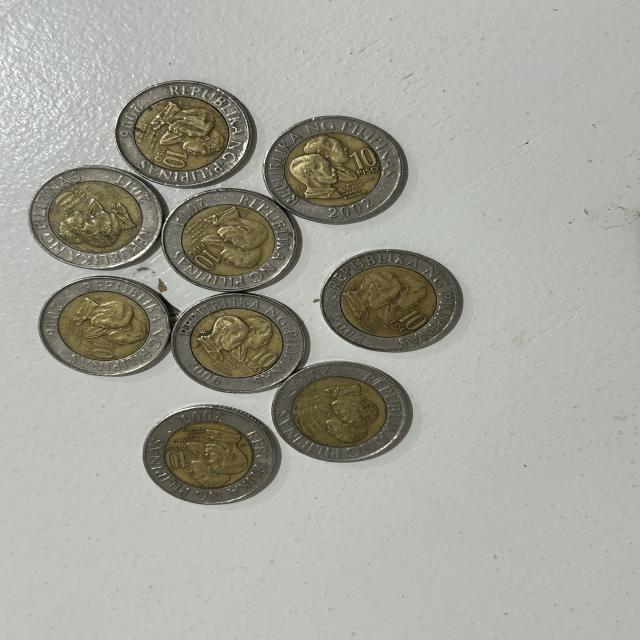10_Old_Front: (385, 307, 435, 339), (288, 410, 334, 444), (183, 236, 222, 274), (350, 144, 387, 181), (157, 440, 196, 474), (239, 348, 283, 378), (50, 186, 92, 217), (150, 146, 196, 171), (80, 337, 114, 361)
